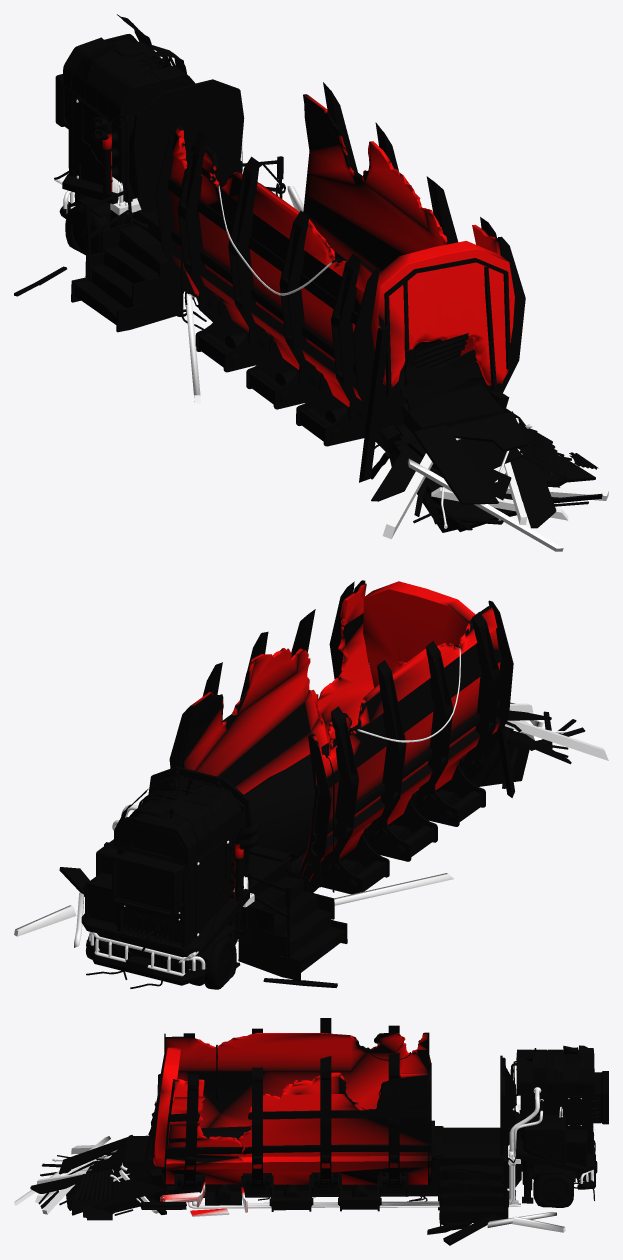
File: SM_CarCrusher02.fbx
3 views of the same model, one above another, from view 1: azimuth 30°, elevation 25°; view 2: azimuth 150°, elevation 25°; view 3: azimuth 270°, elevation 25° (orthographic). The views are drawn at different scales.
Visible parts, largest first — view 1: SM_CarCrusher01_LOD0_300.mo; view 2: SM_CarCrusher01_LOD0_300.mo; view 3: SM_CarCrusher01_LOD0_300.mo.
Part boxes in pixels (bbox=[...]): SM_CarCrusher01_LOD0_300.mo: bbox=[14, 14, 608, 551]; SM_CarCrusher01_LOD0_300.mo: bbox=[14, 580, 608, 989]; SM_CarCrusher01_LOD0_300.mo: bbox=[14, 1018, 608, 1245].
Size of the model in its own units: 777 by 1707 by 558.
